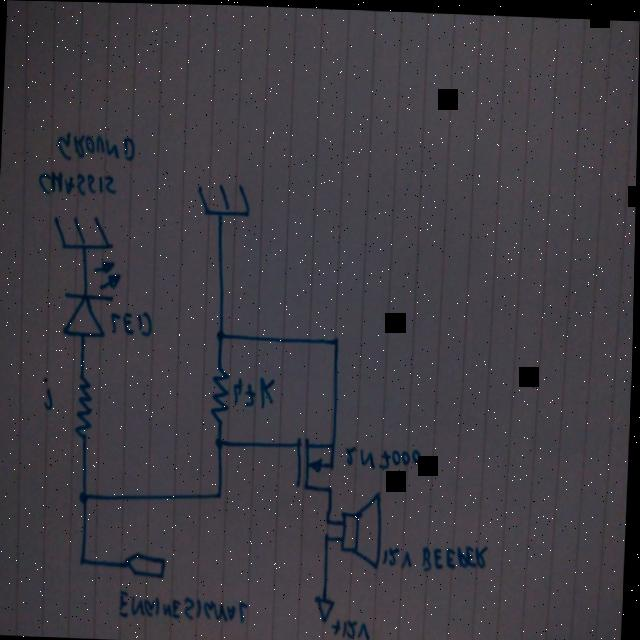diode: (59, 254, 123, 339)
ground: (49, 212, 116, 252), (194, 179, 252, 217)
junction: (79, 487, 94, 505), (214, 433, 226, 449), (216, 325, 226, 344), (332, 332, 342, 345), (81, 553, 89, 565), (216, 488, 224, 499), (325, 515, 332, 524), (325, 531, 331, 541)
resistor: (209, 359, 233, 424), (74, 372, 96, 441)
source: (316, 593, 337, 621)
terminal: (123, 548, 168, 578)
text: (119, 586, 250, 625), (53, 127, 140, 165), (35, 167, 120, 198), (421, 538, 491, 572), (344, 440, 425, 469), (231, 371, 279, 407), (109, 308, 154, 337), (331, 613, 373, 639), (382, 542, 415, 568), (39, 375, 56, 412)
transistor: (291, 429, 339, 494)
